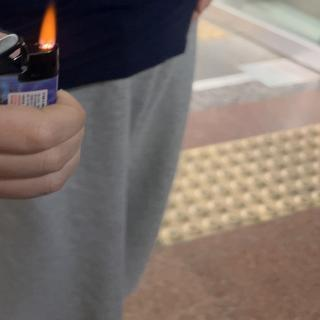fire: (37, 1, 60, 56)
